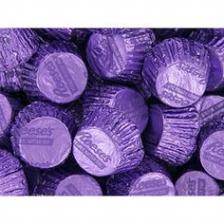purple: (0, 28, 224, 196)
